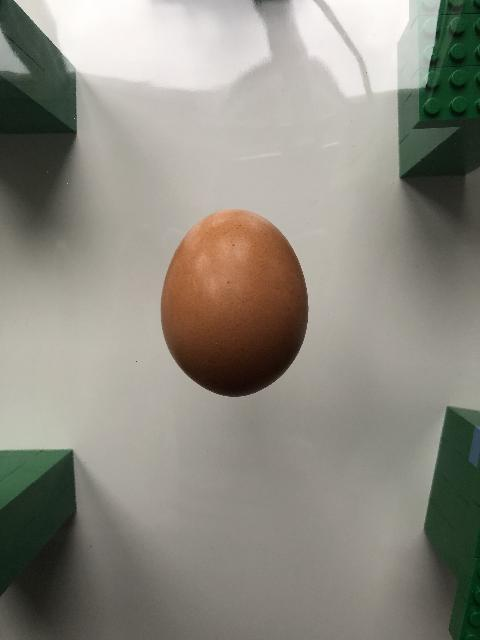Sano: (159, 207, 309, 397)
